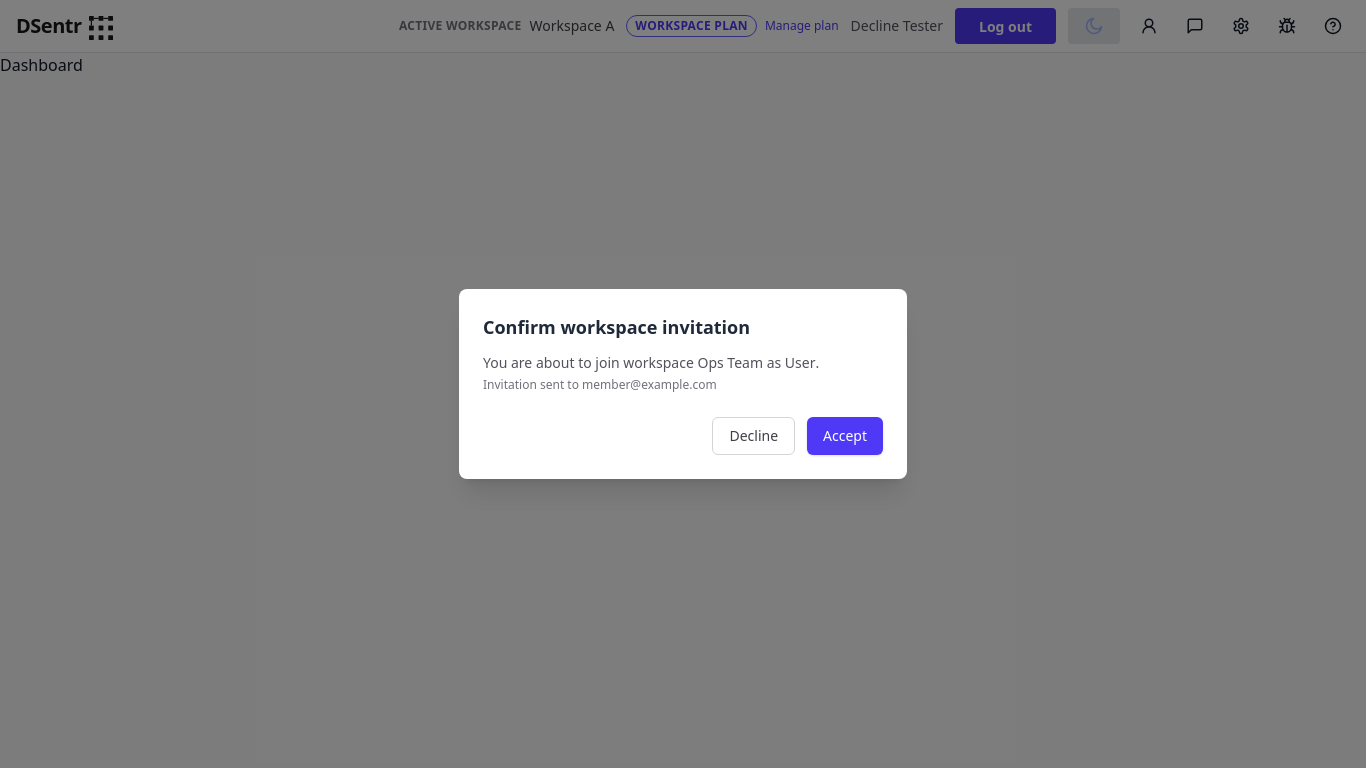
Scenario: DashboardLayout pending invitations › declines an invite and advances to the next pending invitation
Click the button "Decline". click: (754, 436)
box: [712,417,795,455]
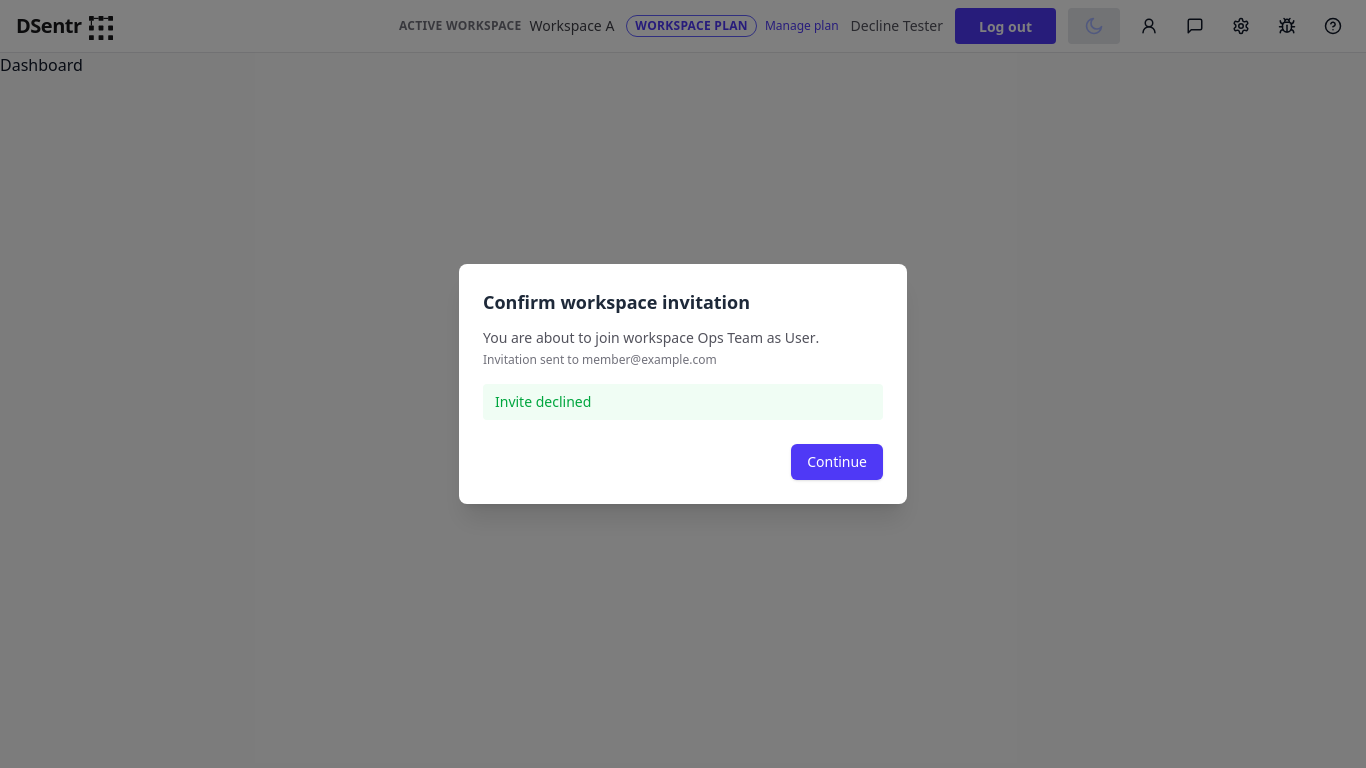
expect the text "Invite declined" is shown: met, box [483,384,883,420]
Click the button "Continue". click: (837, 462)
box: [791,444,883,480]
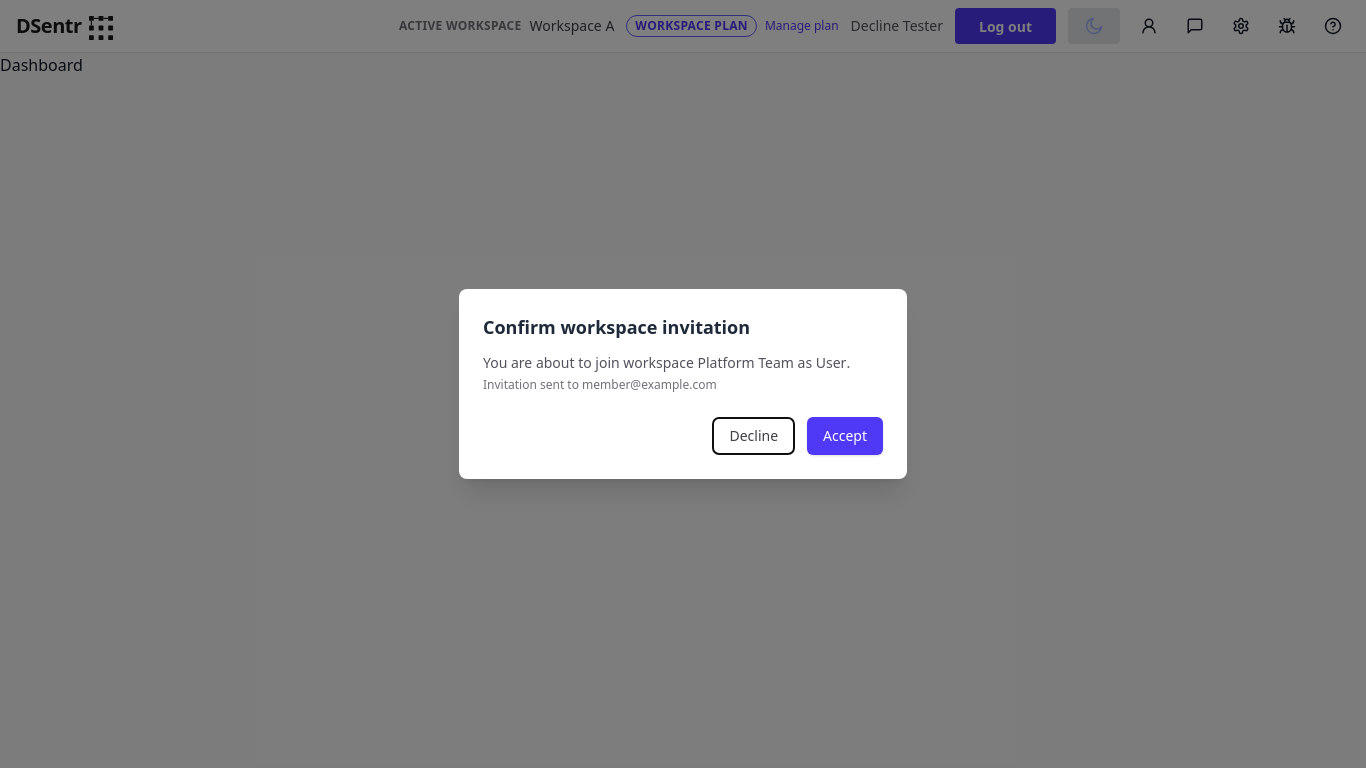
expect the text "Platform Team" is shown: met, box [694,353,794,372]
